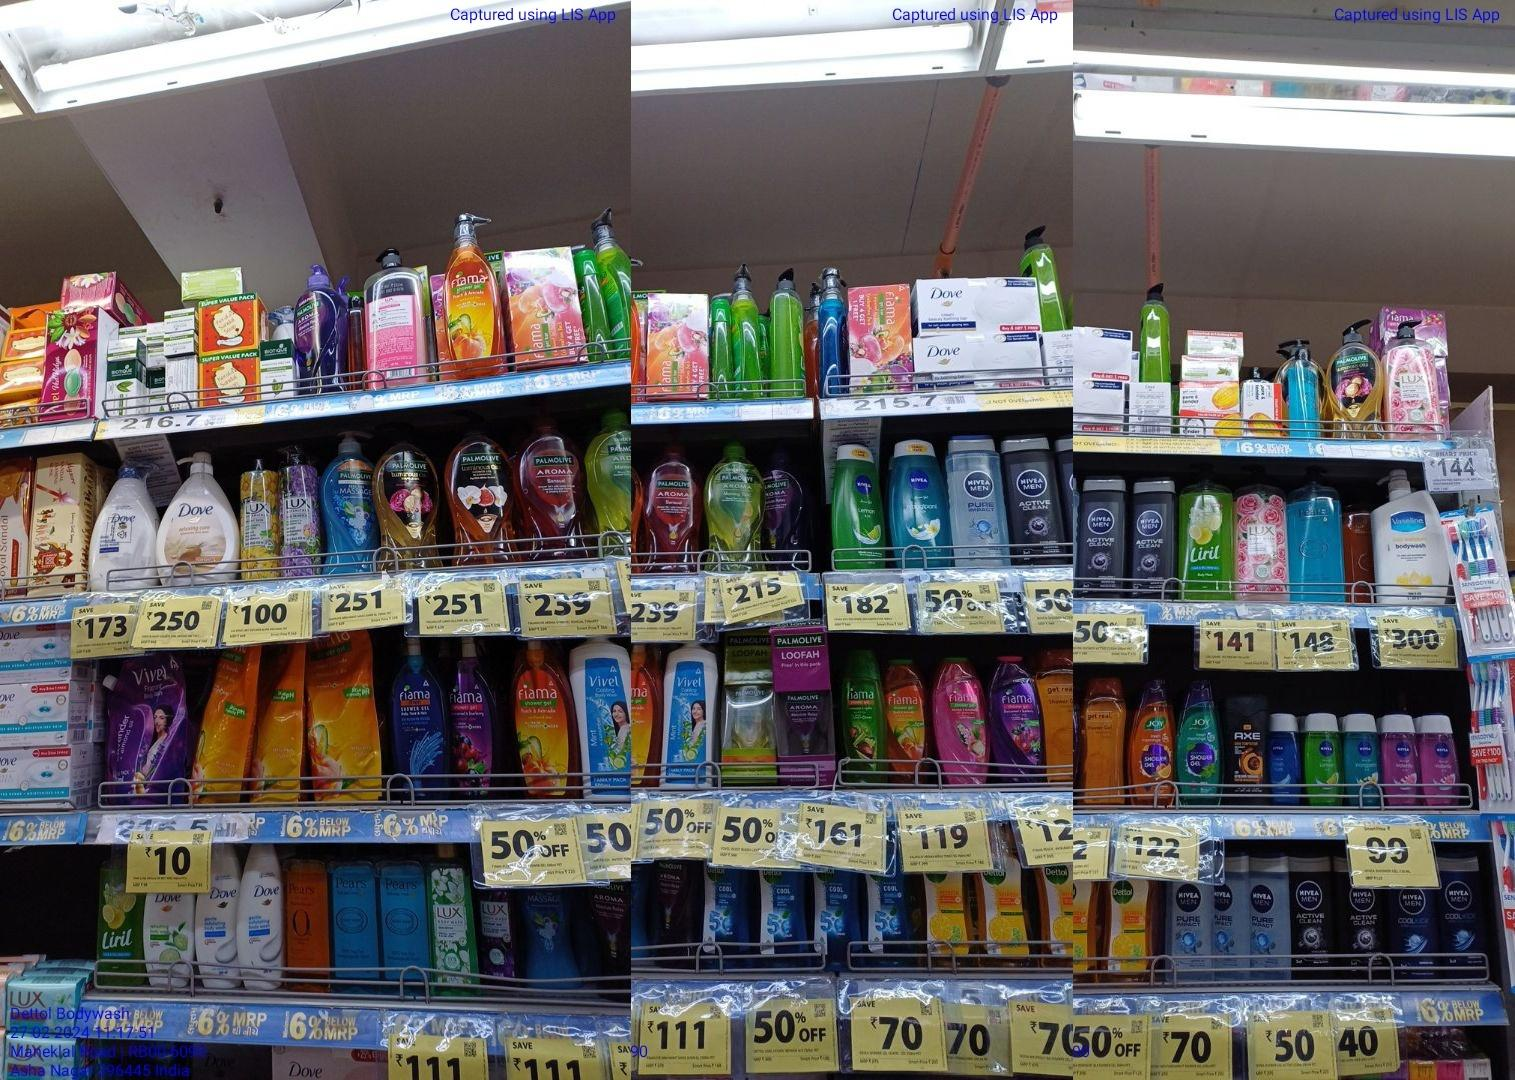Dettol_Bodywash_Cool: (703, 863, 757, 975), (757, 868, 812, 970), (865, 864, 911, 965), (815, 872, 859, 972)
Dettol_Bodywash_Refresh: (977, 819, 1025, 968), (923, 870, 975, 972), (1108, 881, 1155, 988)
Dove_Gentle_Exfoliating_Body_Wash_250ML: (242, 846, 283, 992), (200, 849, 236, 992)
Dove_Refreshing_Body_Wash_250ML: (146, 893, 193, 990)
Fiama_Shower_Gel_Lemongrass_and_Jojoba_250ML: (840, 648, 881, 785)
Fiama_Shower_Gel_Patchouli_and_Macadamia_250ML: (934, 659, 988, 784)
Fiama_Shower_Gel_Peach_and_Avocado_250ML: (884, 657, 926, 789)
Get_Real_Shower_Gel_Moisturising_Glycerin_300ML: (1078, 672, 1126, 809), (1040, 648, 1074, 784)
Joy_Shower_Gel_Mandarin_and_Lemongrass_250ML: (1132, 676, 1175, 810)
Joy_Shower_Gel_Mint_and_Eucalyptus_250ML: (1180, 674, 1225, 809)
Liril_Lime_and_Tea_Tree_Oil_Body_Wash_250ML: (101, 853, 144, 986)
Lux_Black_Orchid_Scent_and_Juniper_Oil_Body_Wash_245ML: (475, 886, 517, 994)
Lux_Body_Wash_Skin_Detox_Freesia_Scent_and_Alove_Vera_245ML: (433, 840, 473, 1001)
Nivea_Shower_Gel_Frangipani_and_Oil_250ML: (892, 434, 952, 572), (1344, 711, 1379, 806)
Nivea_Shower_Gel_Lemon_and_Oil_250ML: (833, 442, 883, 569), (1303, 712, 1342, 809)
Nivea_Shower_Gel_Waterlily_and_Oil_250ML: (1423, 715, 1462, 809), (1385, 711, 1420, 811)
Palmolive_Aroma_Moments_Feel_The_Massage_Shower_Gel_250ML: (524, 889, 580, 991)
Palmolive_Aroma_Relax_250ML: (648, 861, 700, 971)
Pears_Pure_Glycerin_and_Mint_Extracts_Body_Wash_250ML: (379, 843, 427, 1001), (331, 845, 376, 998)
